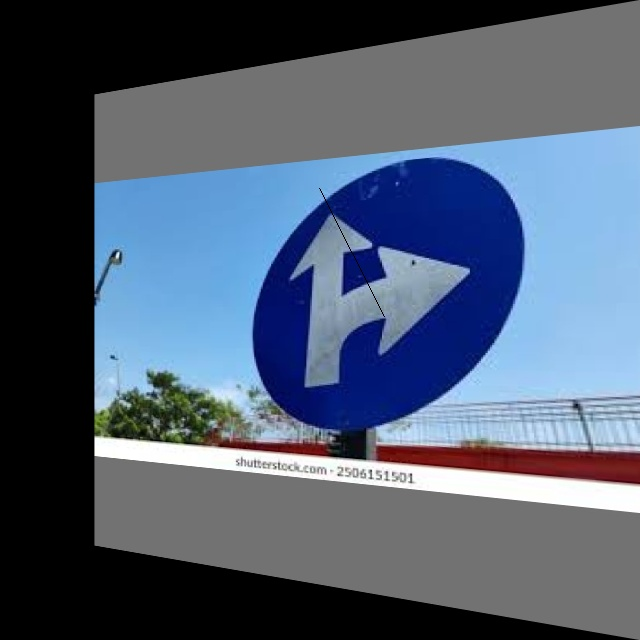Compulsory_Ahead_or_Turn_Right: (257, 160, 513, 448)
